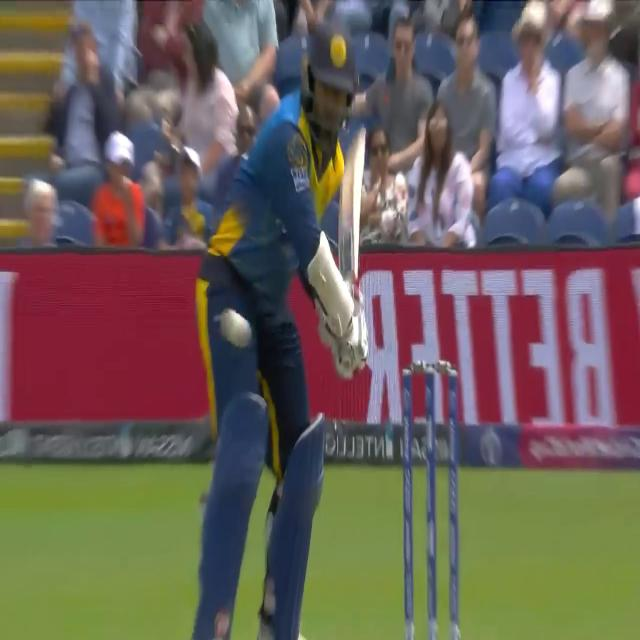ball: (216, 290, 254, 356)
